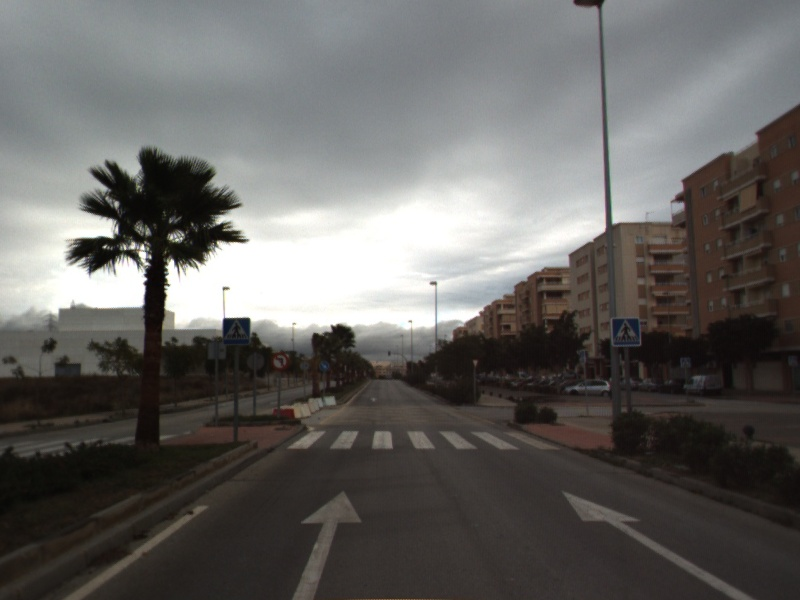STRAIGHT: (560, 488, 760, 600), (290, 488, 365, 600)
